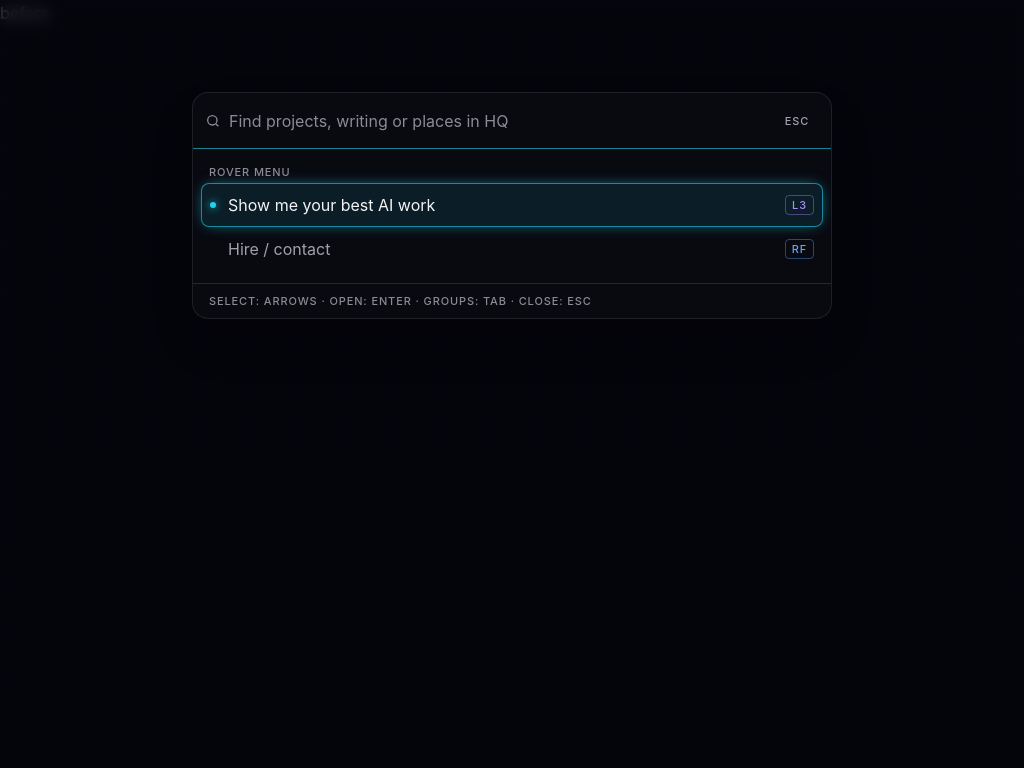
CommandPalette › shows the empty state when nothing matches
Step 1. Type "zzqqxx" into the dropdown → (498, 121), box [229,99,767,143]
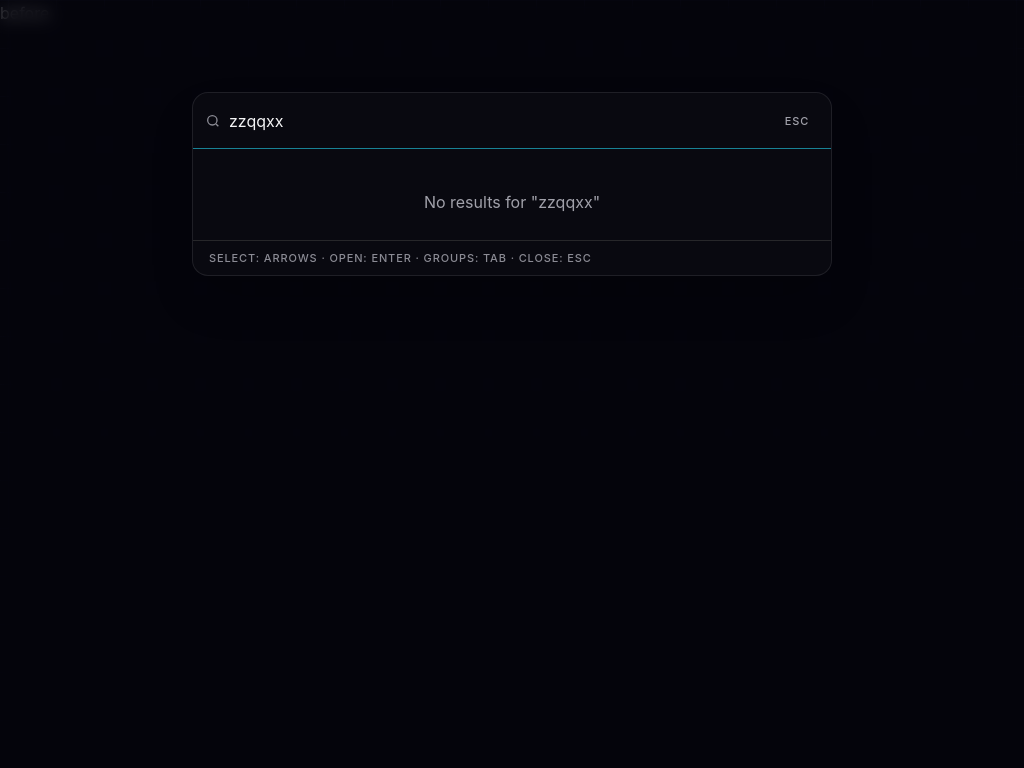
Now the message reads "No results for \"zzqqxx\"", box [424,192,600,212]
Now no options are shown
Now the dropdown is collapsed, box [229,99,767,143]
